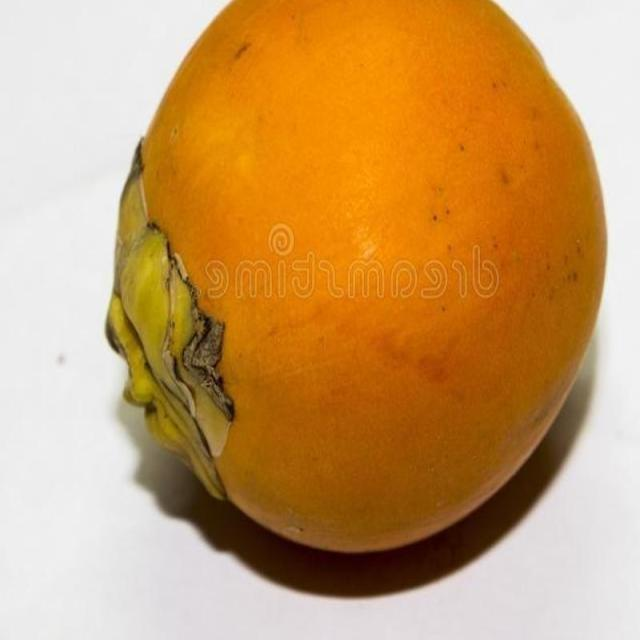good: (104, 0, 610, 557)
